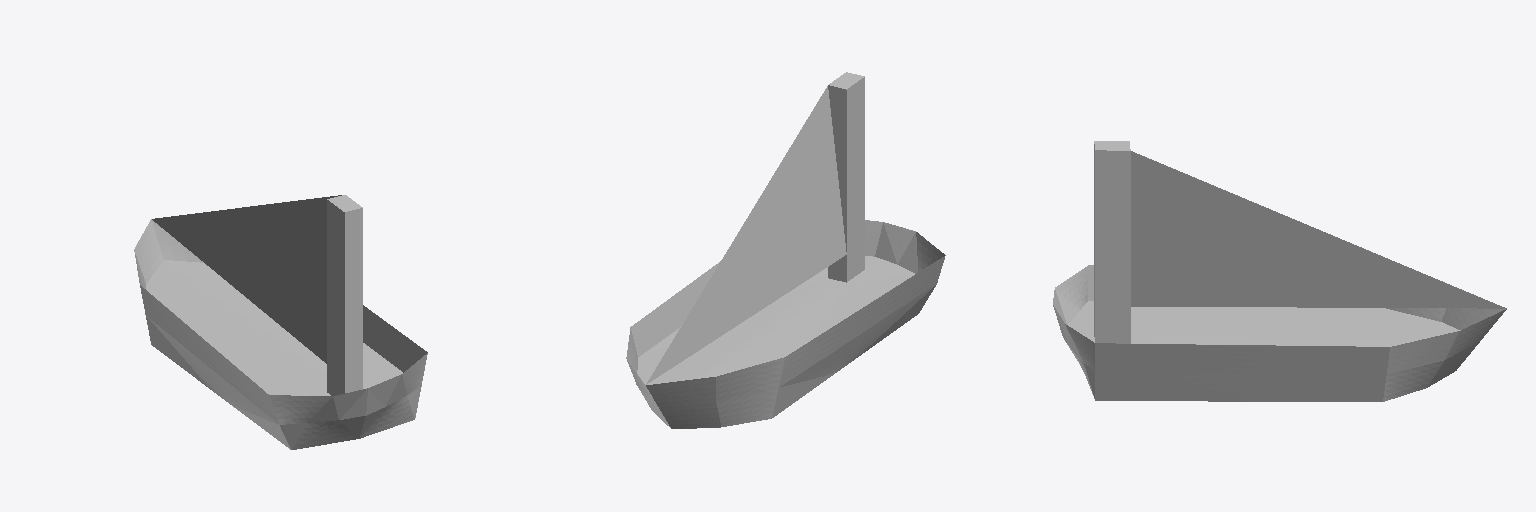
File: small4points.obj
3 renders of one model, left to right at view 1: azimuth 30°, elevation 25°; view 2: azimuth 150°, elevation 25°; view 3: azimuth 270°, elevation 25°, orthographic.
Parts seen in each view (by area): view 1: Cube.001_Cube.002; view 2: Cube.001_Cube.002; view 3: Cube.001_Cube.002.
Boxes of the visible parts, box(x1,y1,x2,y2) form: Cube.001_Cube.002: box(134, 195, 427, 449); Cube.001_Cube.002: box(626, 72, 945, 428); Cube.001_Cube.002: box(1053, 141, 1506, 401).
Bounding box in the file's own units: 0.2033 × 0.2658 × 0.4864.